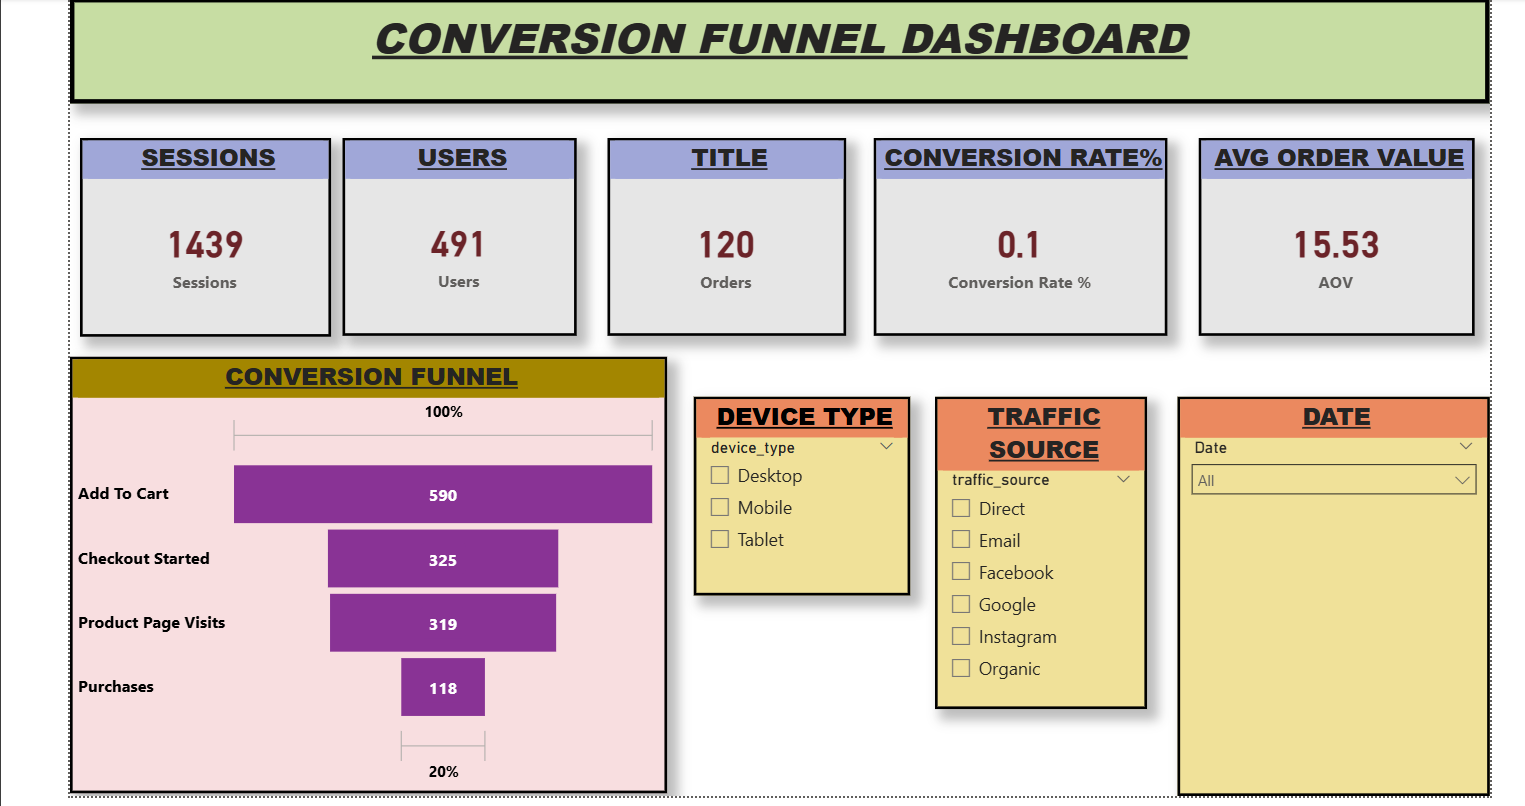

This screenshot's page, from the dashboard's own definition file:
{"tool":"powerbi","page":{"name":"Conversion Funnel Dashboard","canvas":[1280,720],"ordinal":0},"visuals":[{"type":"card","title":"SESSIONS","fields":{"Values":["clickstream_dataset.Sessions"]},"box":[9,126.2,226.6,179.2],"z":0},{"type":"card","title":"USERS","fields":{"Values":["clickstream_dataset.Users"]},"box":[246.2,126.2,211.2,178.8],"z":1000},{"type":"card","title":"CONVERSION RATE%","fields":{"Values":["clickstream_dataset.Conversion Rate %"]},"box":[725,126.2,265,178.8],"z":2000},{"type":"card","title":"AVG ORDER VALUE","fields":{"Values":["clickstream_dataset.AOV"]},"box":[1017.5,126.2,248.8,178.8],"z":3000},{"type":"card","title":"TITLE","fields":{"Values":["clickstream_dataset.Orders"]},"box":[485,126.2,215,178.8],"z":4000},{"type":"funnel","title":"CONVERSION FUNNEL ","fields":{"Y":["clickstream_dataset.Funnel Value"],"Category":["Funnel_Stages.Stage"]},"box":[0,323.8,538.8,393.8],"z":5000},{"type":"slicer","title":"DEVICE TYPE","fields":{"Values":["Device.device_type"]},"box":[562.2,359.8,195.1,179.3],"z":6000},{"type":"slicer","title":"TRAFFIC SOURCE","fields":{"Values":["Traffic_Source.traffic_source"]},"box":[780.5,359.8,191.5,281.7],"z":7000},{"type":"slicer","title":"DATE","fields":{"Values":["Calendar.Date"]},"box":[998.8,359.8,281.7,359.8],"z":8000},{"type":"textbox","box":[0,0,1280,95],"z":9000}]}

Visuals, with their boxes in screenshot pixels (x1, y1, x2, y2):
"SESSIONS" card: detection(77, 135, 328, 333)
"USERS" card: detection(339, 135, 573, 333)
"CONVERSION RATE%" card: detection(868, 135, 1161, 333)
"AVG ORDER VALUE" card: detection(1191, 135, 1466, 333)
"TITLE" card: detection(603, 135, 840, 333)
"CONVERSION FUNNEL " funnel: detection(68, 354, 662, 788)
"DEVICE TYPE" slicer: detection(688, 393, 904, 591)
"TRAFFIC SOURCE" slicer: detection(929, 393, 1141, 704)
"DATE" slicer: detection(1170, 393, 1481, 791)
textbox: detection(68, 0, 1481, 101)
